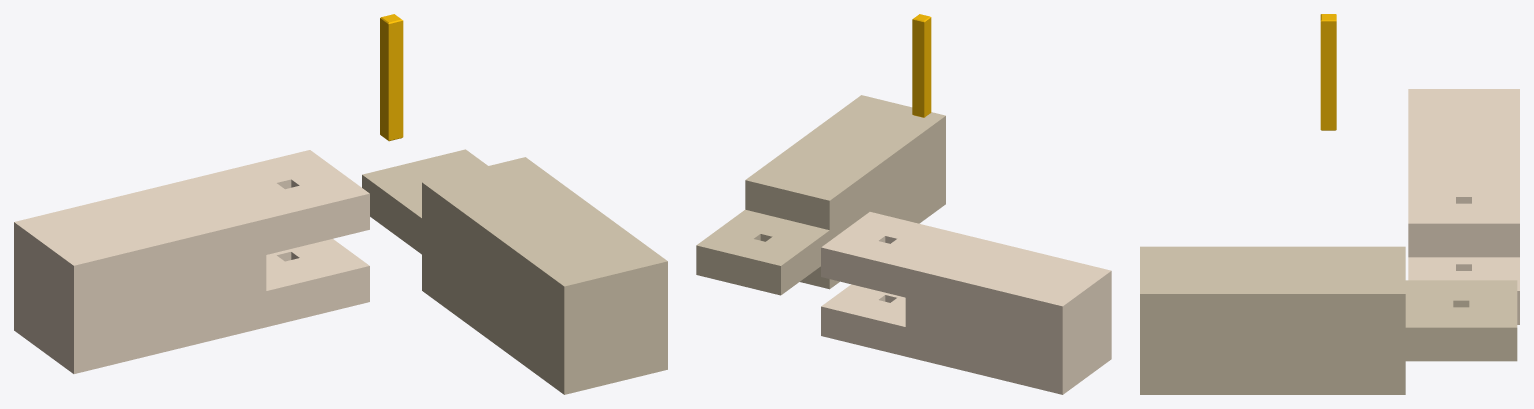
The picture shows the model from 3 angles, left to right: view 1: azimuth 30°, elevation 25°; view 2: azimuth 150°, elevation 25°; view 3: azimuth 270°, elevation 25°; orthographic projection. The views are drawn at different scales.
Size of the model in its own units: 0.8654 by 0.5879 by 0.678.
